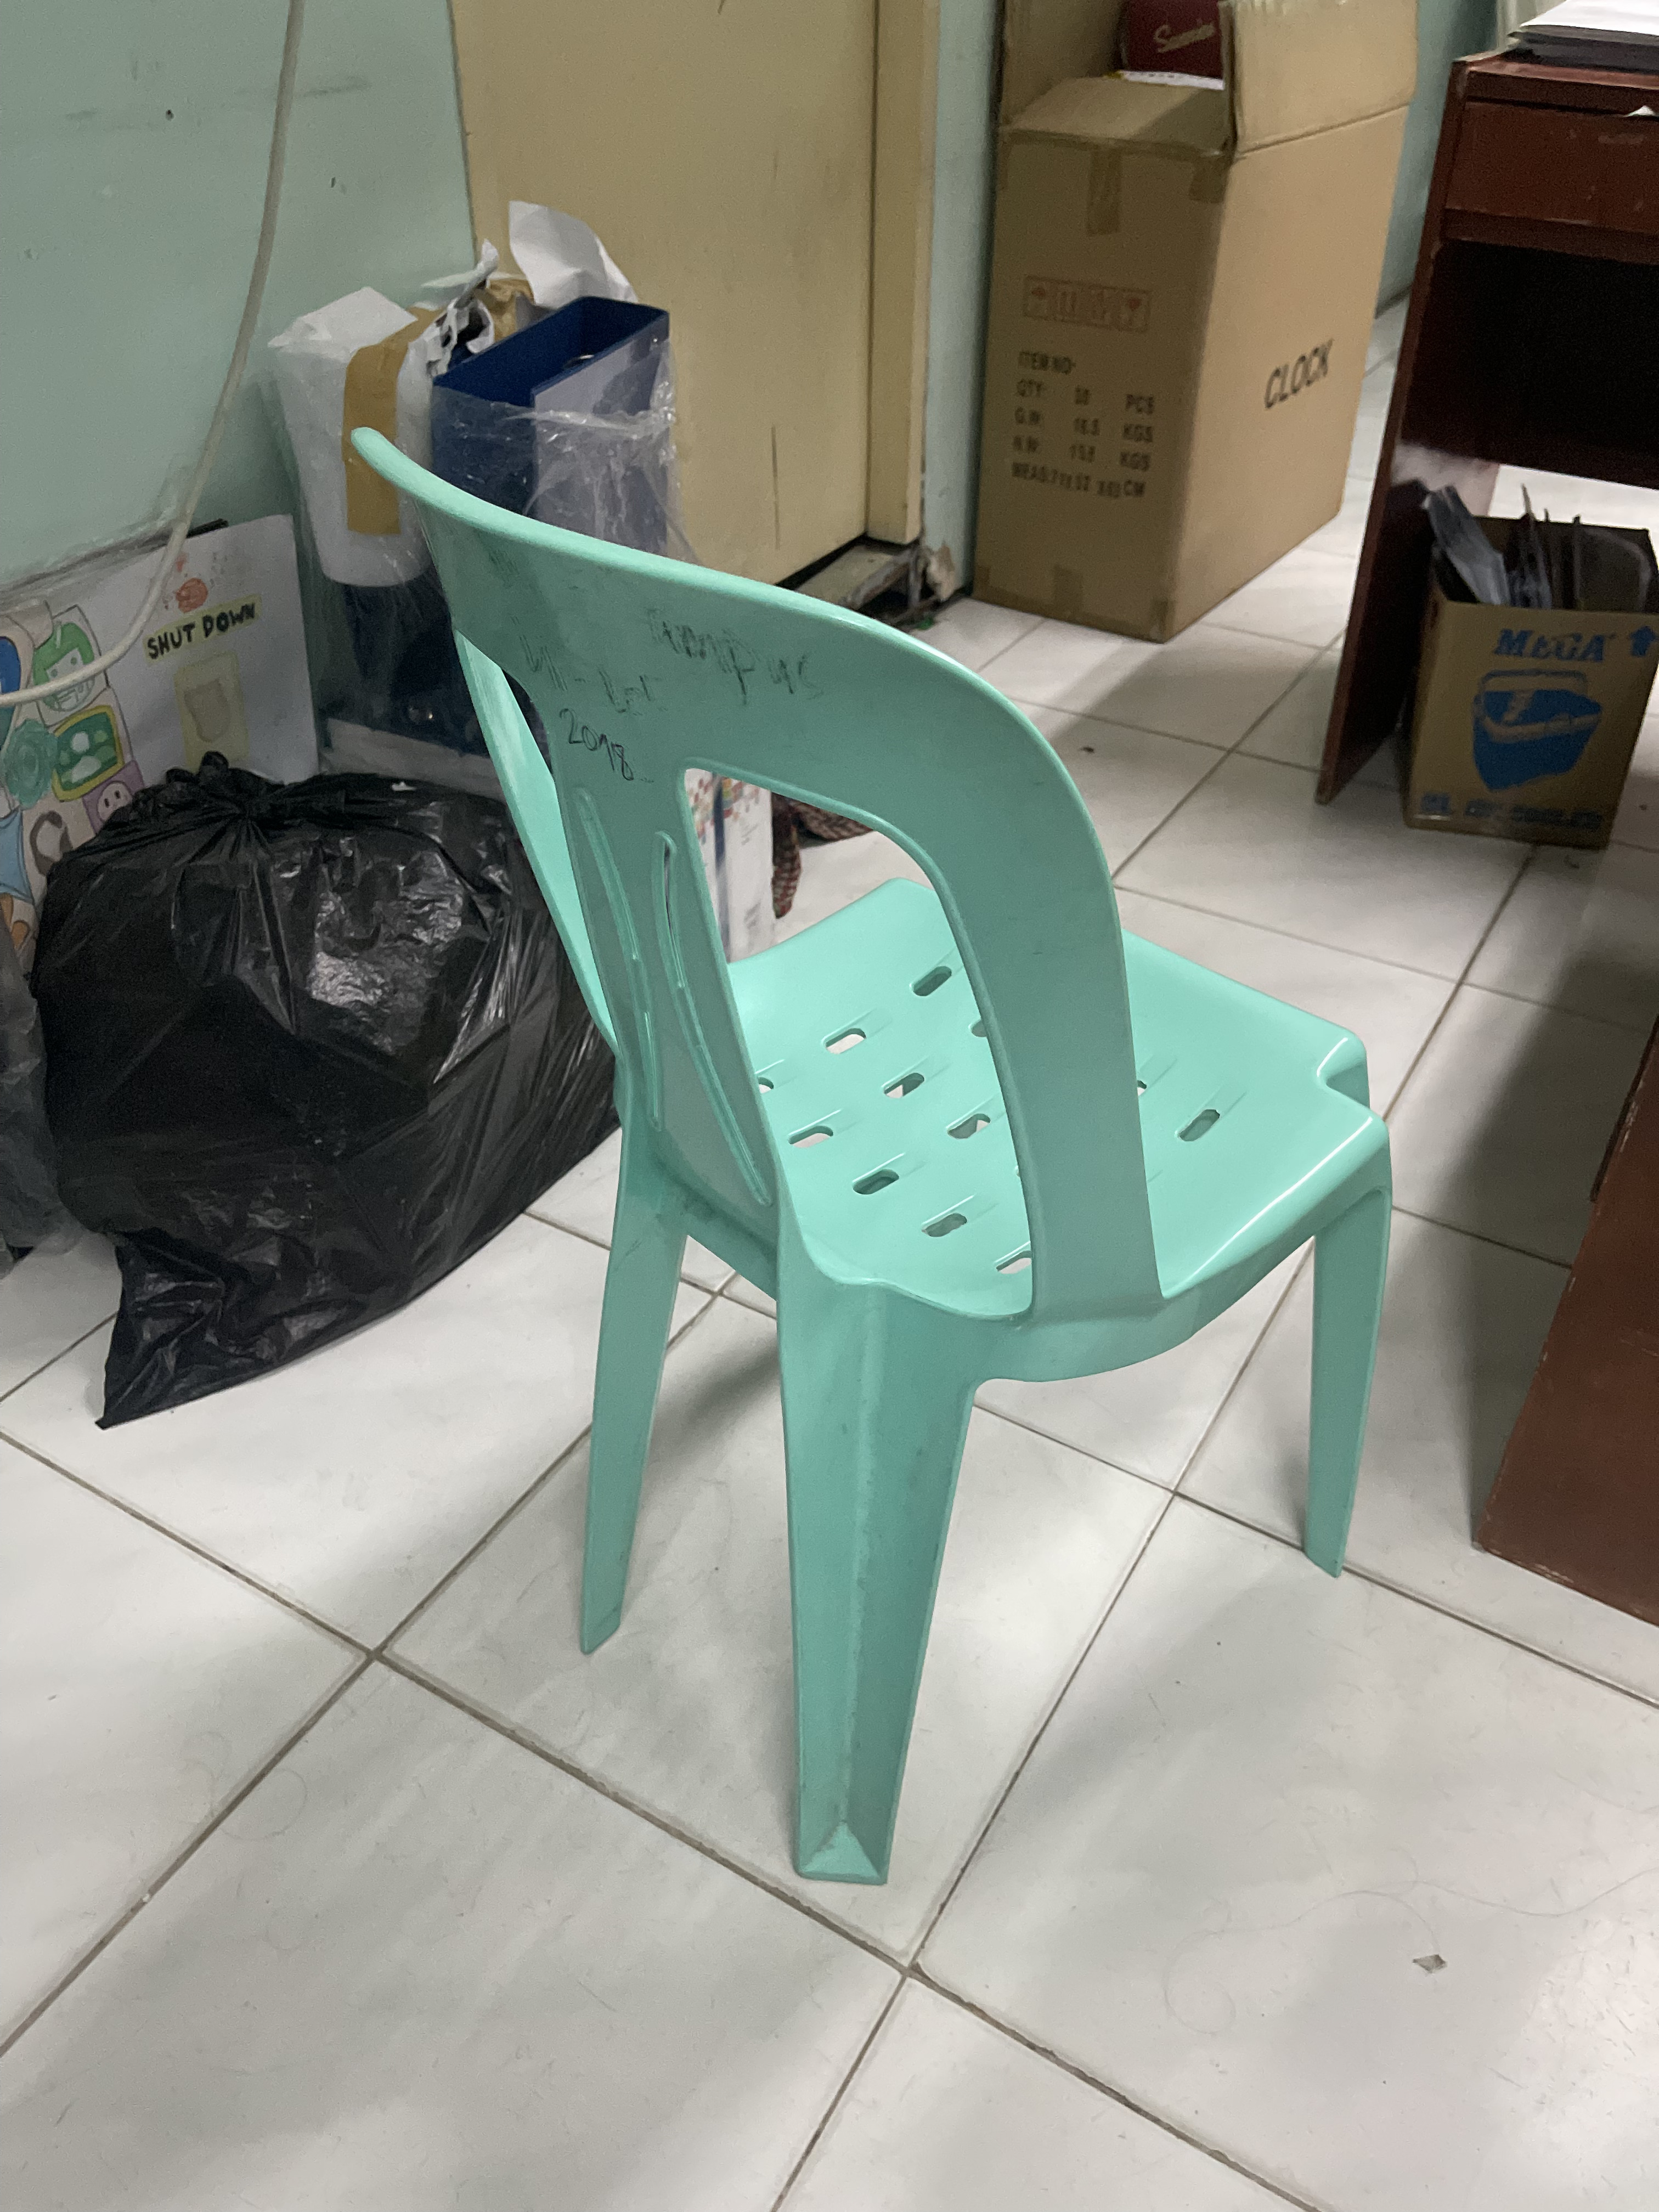chair2: (338, 416, 1413, 1925)
